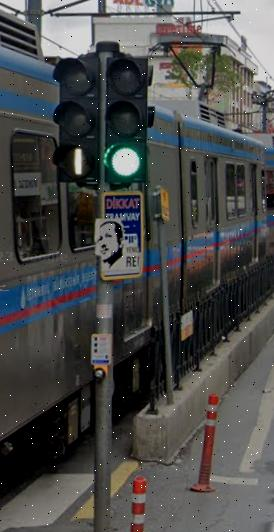greenlight: (106, 51, 147, 182)
